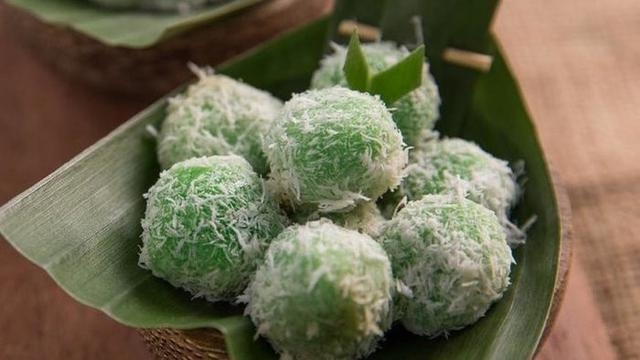klepon: (260, 91, 411, 213), (134, 161, 272, 291), (377, 202, 504, 325)
